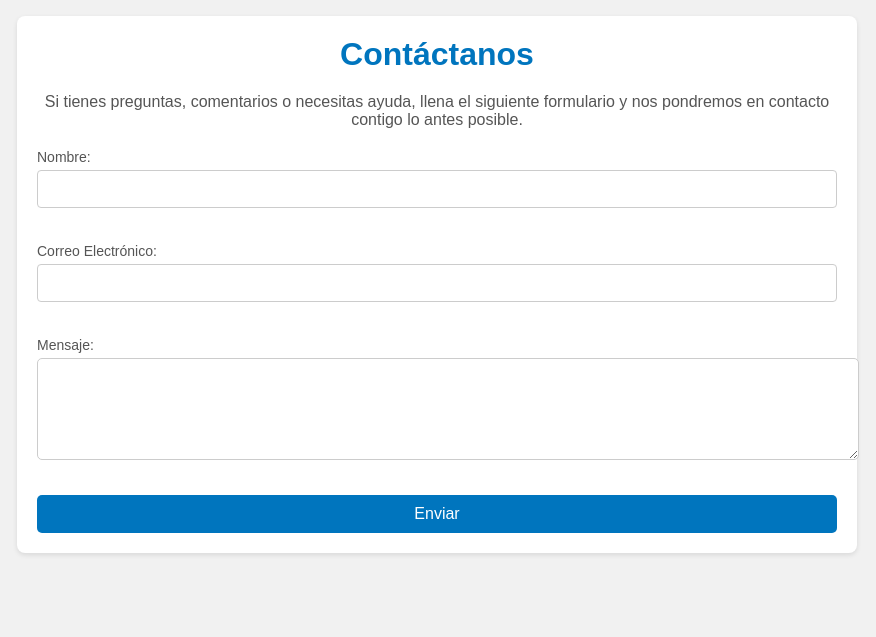
Test: Contacto Component › Submits the form with valid data
Type "John Doe" into the field labelled "Nombre:" at (437,189), box x1=37 y1=170 x2=837 y2=208
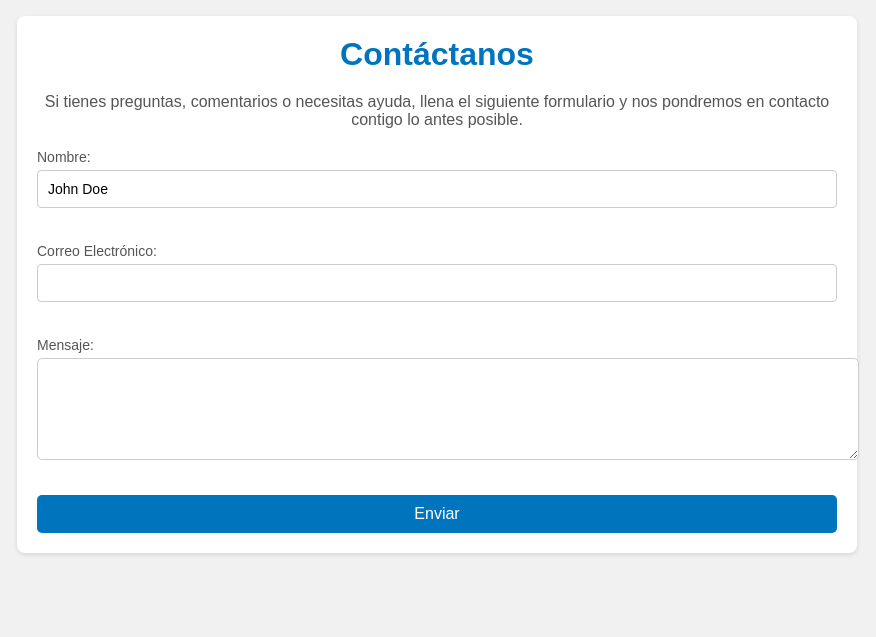
Type "john.doe@example.com" into the field labelled "Correo Electrónico:" at (437,283), box x1=37 y1=264 x2=837 y2=302
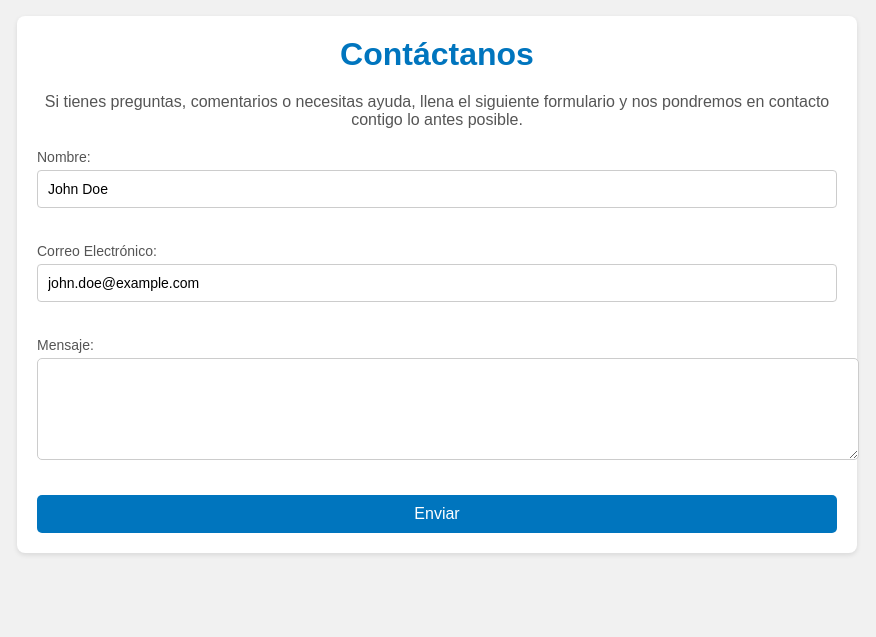
Type "Este es un mensaje de prueba." into the text box labelled "Mensaje:" at (448,409), box x1=37 y1=358 x2=859 y2=460
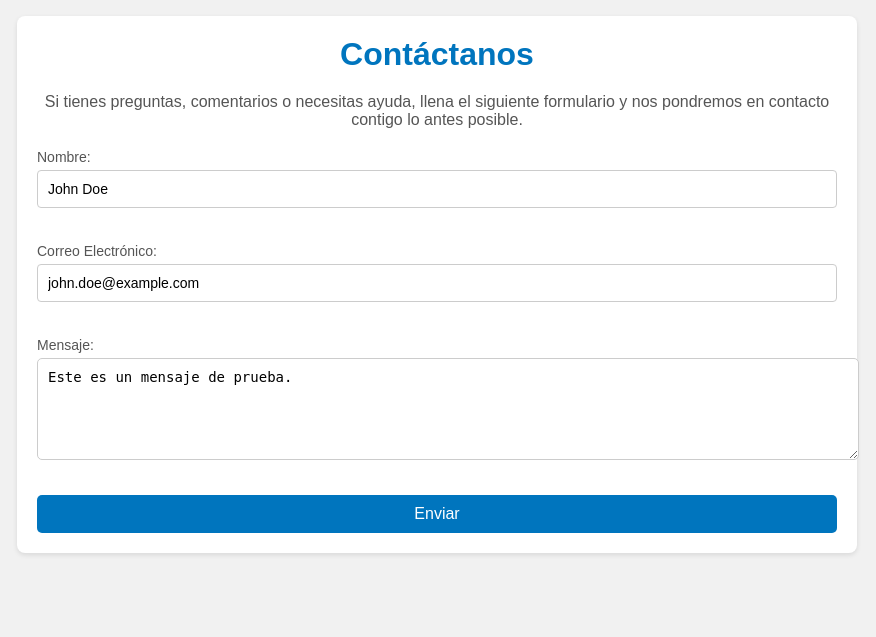
Click the button "Enviar" at (437,514), box x1=37 y1=495 x2=837 y2=533
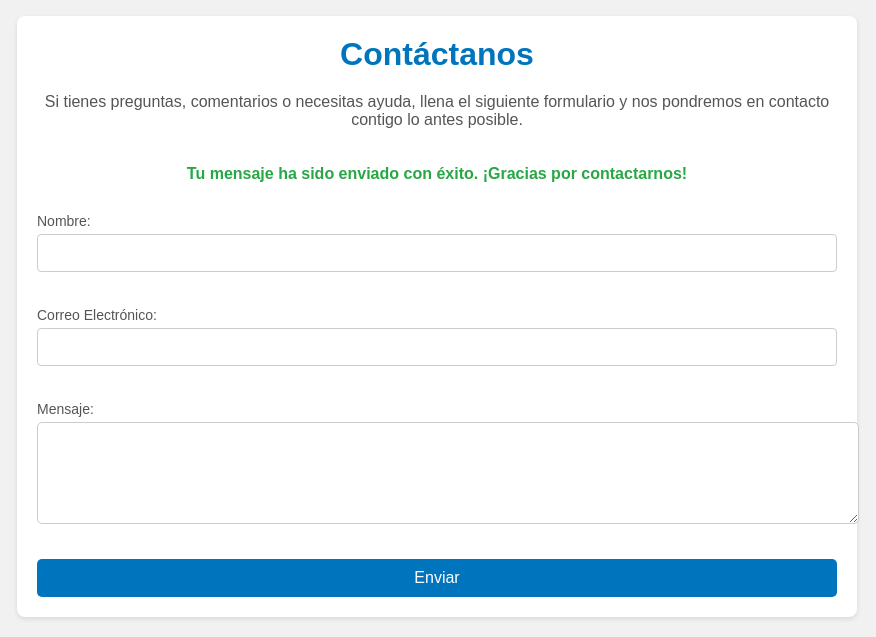
expect the text "Tu mensaje ha sido enviado con éxito" is shown: met, box x1=187 y1=165 x2=687 y2=182
expect the field labelled "Nombre:" is empty: met, box x1=37 y1=234 x2=837 y2=272
expect the field labelled "Correo Electrónico:" is empty: met, box x1=37 y1=328 x2=837 y2=366
